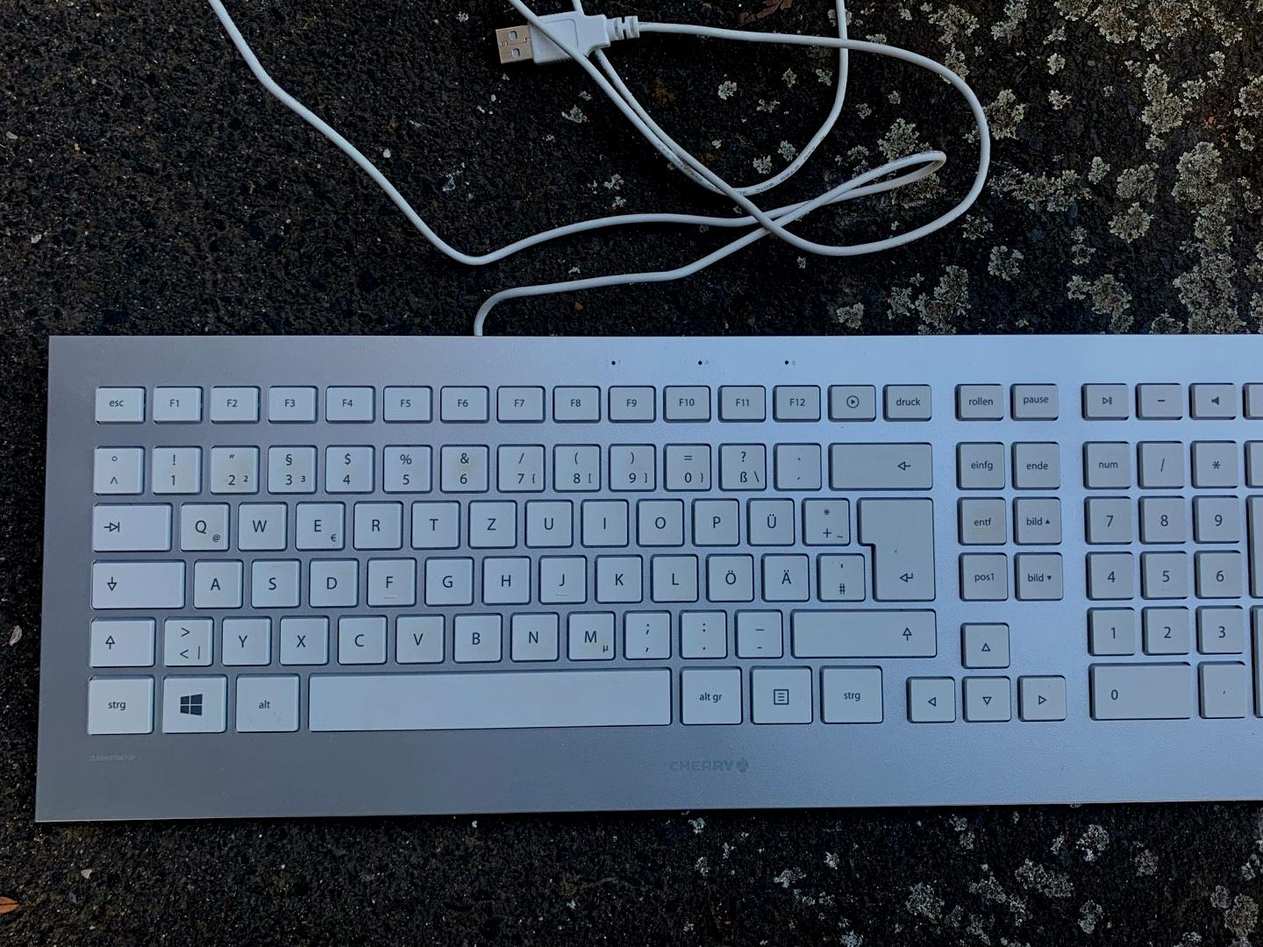0: (662, 441, 711, 489)
1: (149, 444, 200, 493)
2: (207, 443, 258, 493)
3: (265, 442, 317, 493)
4: (324, 442, 374, 491)
5: (381, 442, 432, 491)
6: (439, 442, 489, 491)
7: (496, 441, 545, 490)
8: (551, 442, 601, 490)
9: (606, 441, 656, 490)
a: (190, 556, 241, 607)
accent: (774, 440, 820, 488)
ae: (760, 549, 809, 600)
alt-left: (232, 672, 300, 733)
altgr-right: (677, 664, 742, 723)
b: (451, 609, 502, 660)
c: (335, 611, 387, 663)
caret: (90, 444, 142, 492)
comma: (621, 607, 671, 658)
d: (307, 554, 356, 606)
del: (828, 438, 931, 488)
e: (292, 497, 344, 549)
enter: (854, 492, 935, 601)
f: (365, 554, 415, 604)
g: (423, 553, 473, 603)
h: (481, 552, 530, 602)
hash: (815, 549, 864, 599)
i: (580, 495, 627, 545)
j: (538, 552, 586, 602)
k: (593, 551, 642, 602)
keyboard: (32, 333, 1263, 825)
l: (649, 550, 697, 601)
less: (161, 614, 213, 665)
m: (564, 607, 615, 659)
minus: (732, 607, 782, 656)
n: (508, 608, 559, 660)
o: (635, 495, 683, 545)
oe: (705, 550, 753, 600)
p: (691, 495, 738, 544)
plus: (801, 494, 849, 543)
point: (678, 607, 726, 656)
q: (175, 498, 228, 550)
r: (351, 498, 401, 547)
s: (249, 556, 298, 606)
shift-left: (84, 616, 153, 666)
shift-lock: (87, 557, 182, 607)
shift-right: (788, 605, 938, 656)
space: (307, 665, 670, 731)
ss: (717, 440, 767, 488)
strg-left: (82, 673, 154, 733)
strg-right: (818, 662, 885, 722)
t: (410, 497, 458, 546)
tab: (87, 500, 169, 550)
u: (523, 495, 572, 545)
ue: (745, 495, 794, 544)
v: (393, 610, 444, 662)
w: (235, 497, 285, 549)
x: (277, 612, 328, 664)
y: (218, 614, 269, 665)
z: (467, 496, 516, 546)
